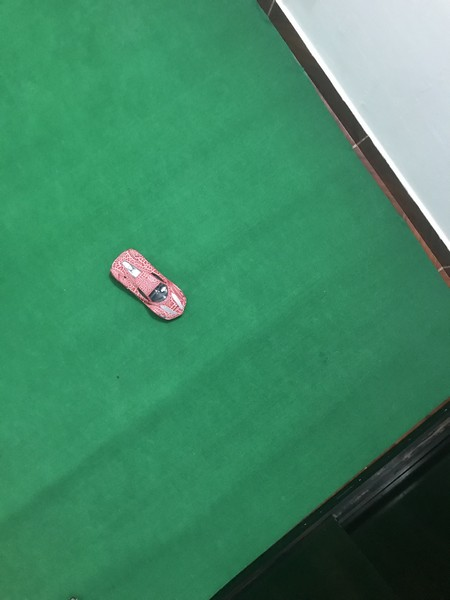RC: (107, 247, 191, 327)
